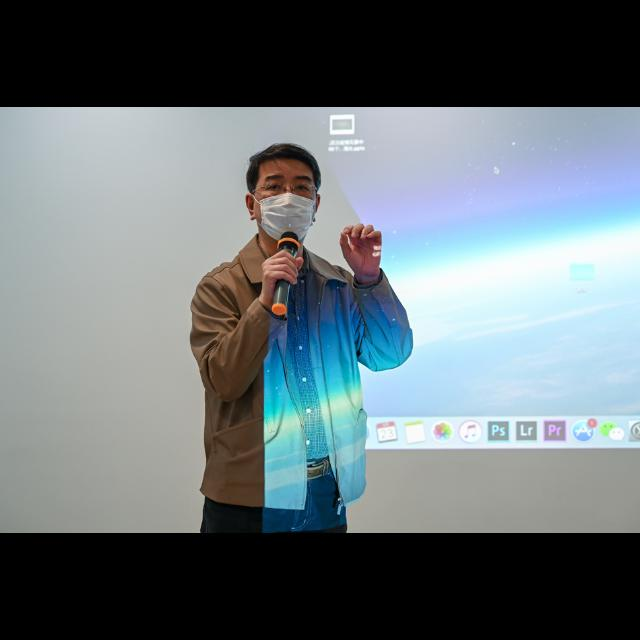masks: (250, 190, 318, 244)
